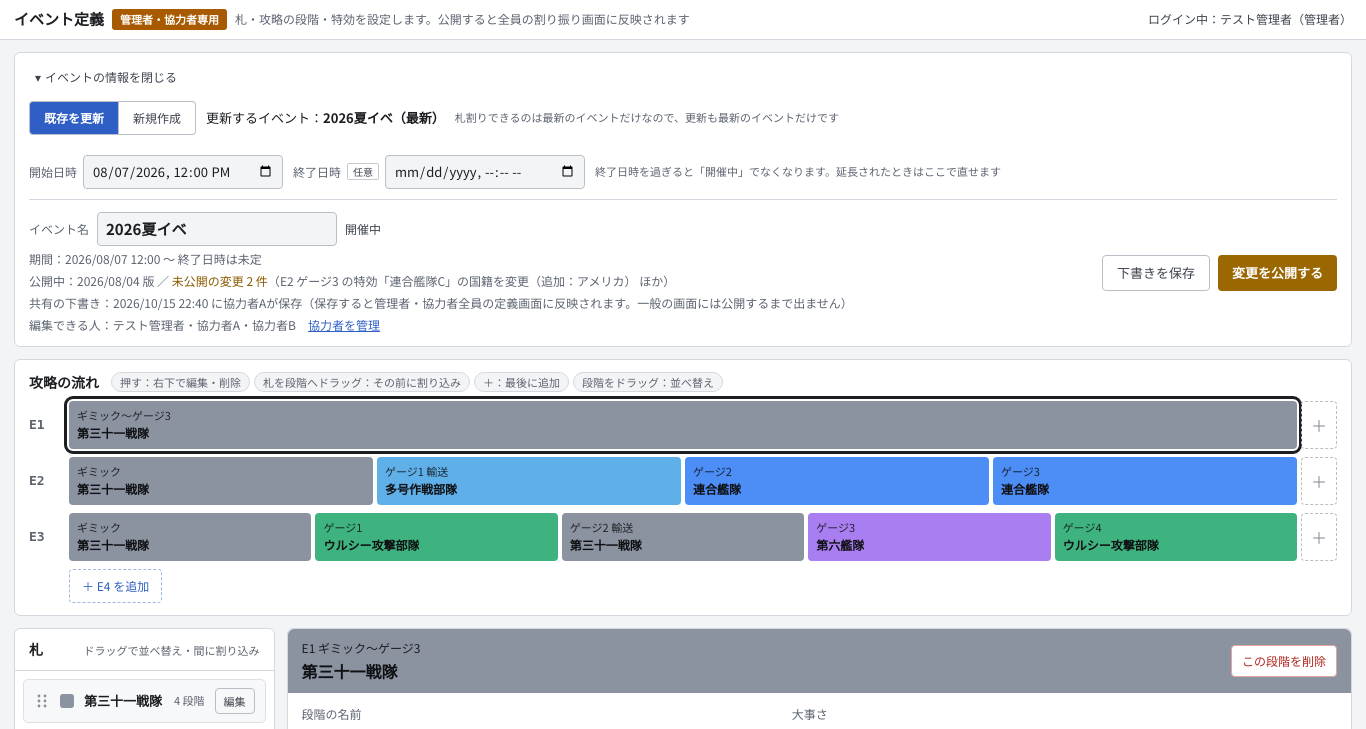
Scenario: イベント定義の画面（PlanEditor）：特効グループの艦種（v1.1。国籍の条件を絞る） › 艦種を選ぶ欄（「＋ 艦種」） › 選んでいる艦種のチェックボックスはチェック済み（選択肢の番号のどれかを含めば入る：9 だけでも戦艦、22 だけでも補給）
Expected: the element "攻略の流れ" is shown, left=14, top=358, right=1352, bottom=616
What coordinates should you click on to do the following:
click the button "ゲージ3 連合艦隊"
I would click on:
 (1020, 470)
Its box is left=993, top=456, right=1297, bottom=504.
(page scrolled)
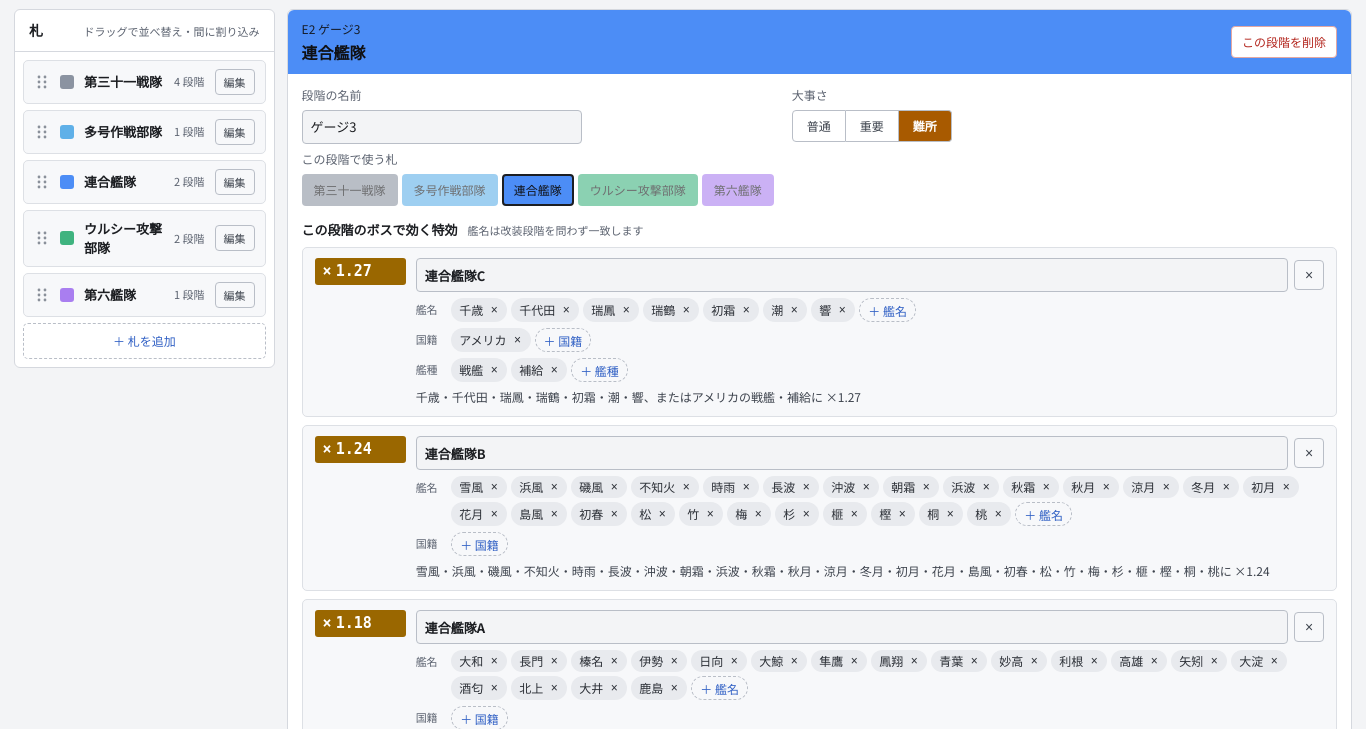
What coordinates should you click on to do the following:
click the button "＋ 艦種"
I would click on:
 (600, 370)
Its box is left=571, top=358, right=628, bottom=382.
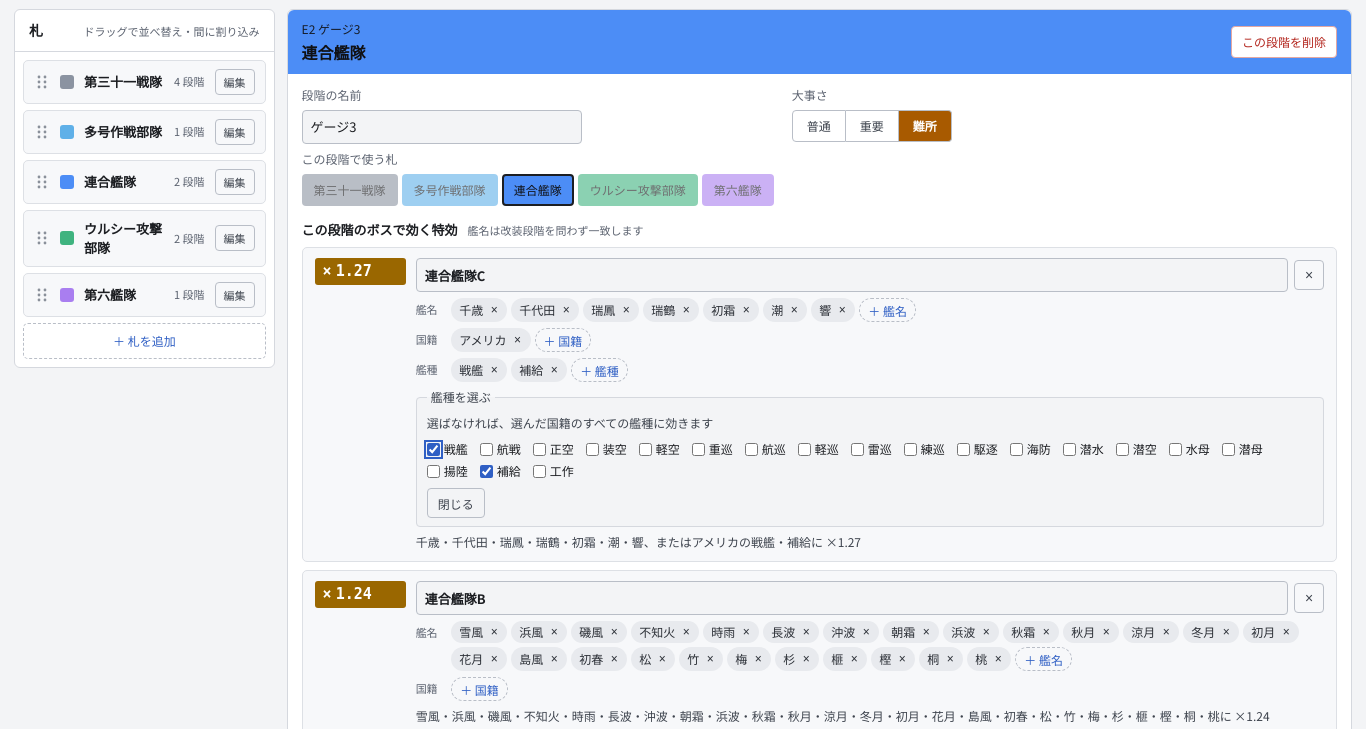
Now the checkbox labelled "戦艦" is checked, box left=427, top=442, right=440, bottom=456
Now the checkbox labelled "補給" is checked, box left=480, top=464, right=493, bottom=478
Now the checkbox labelled "駆逐" is not checked, box left=957, top=442, right=970, bottom=456
